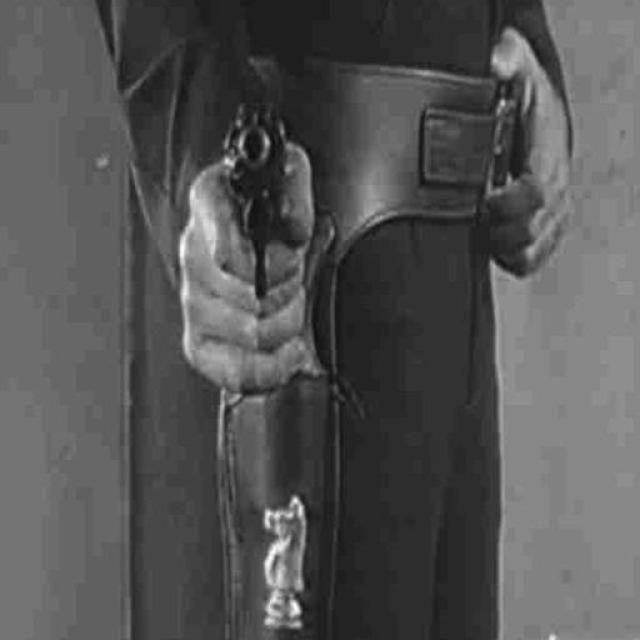pistol: (226, 99, 291, 309)
